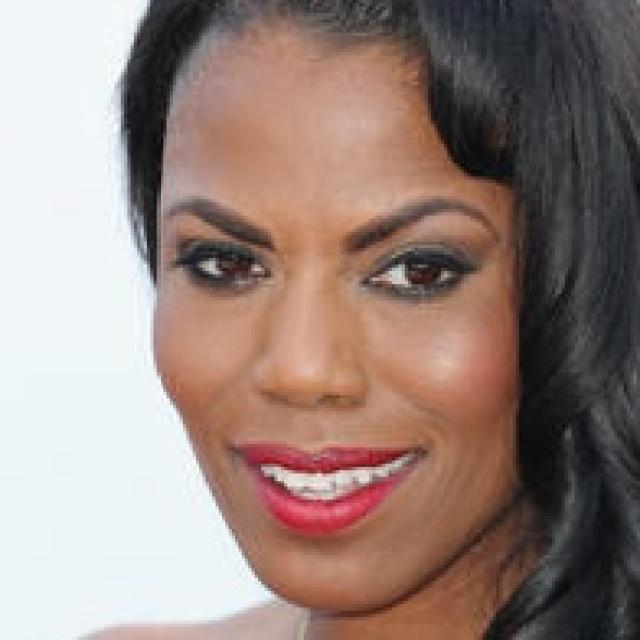Normal: (152, 13, 526, 619)
